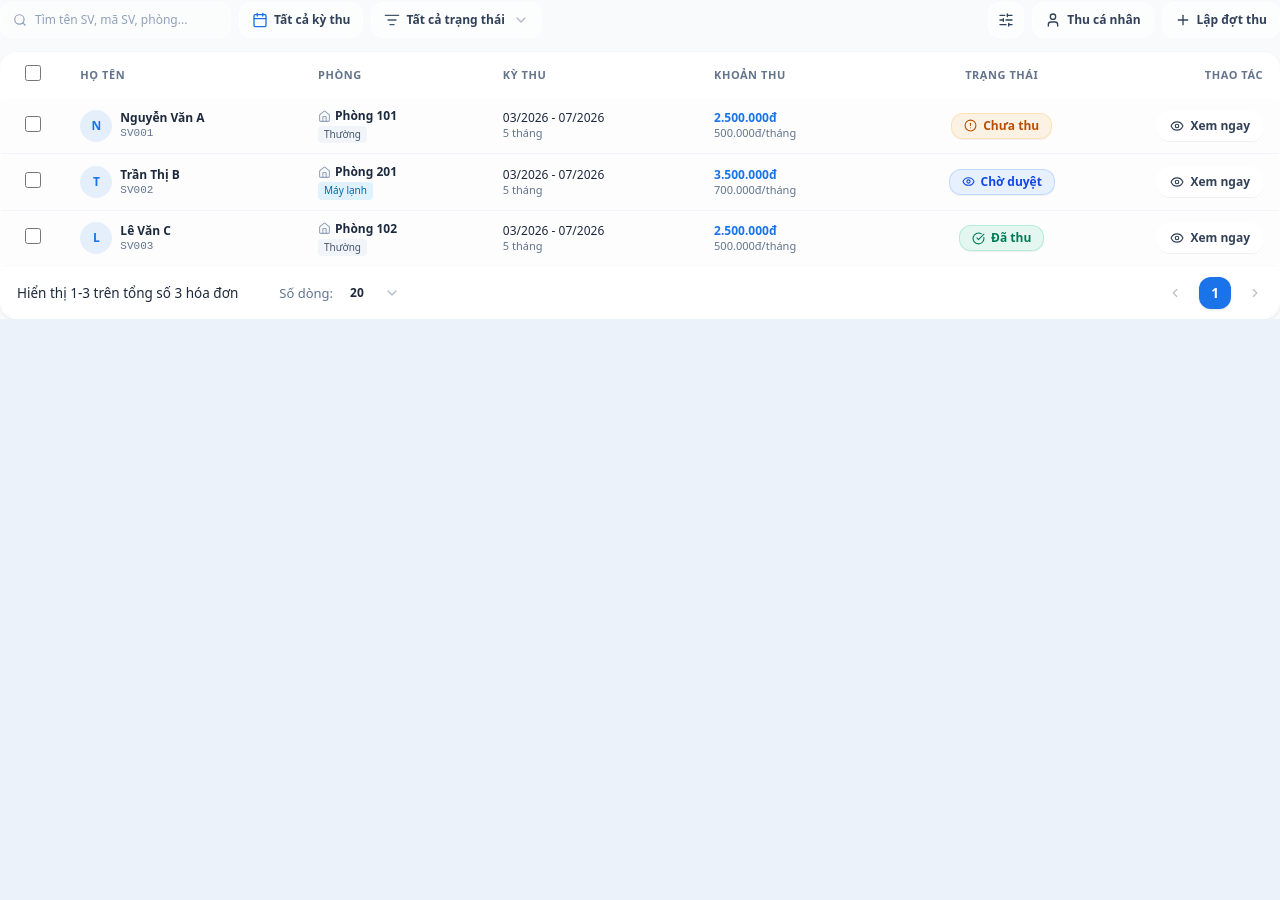
it: RoomFeeCollection Component › displays Vietnamese error and retry button when getProofBlob fails (AC-03)
Check: the button "Xem ngay" in the row of "Nguyễn Văn A" is shown, box [1157,111,1263,141]
Note: Click Xem ngay on second invoice (rfi-pending)
What coordinates should you click on to do the following:
click the button "Xem ngay" in the row of "Trần Thị B"
I would click on:
 (1210, 182)
Its box is [1157,167,1263,197].
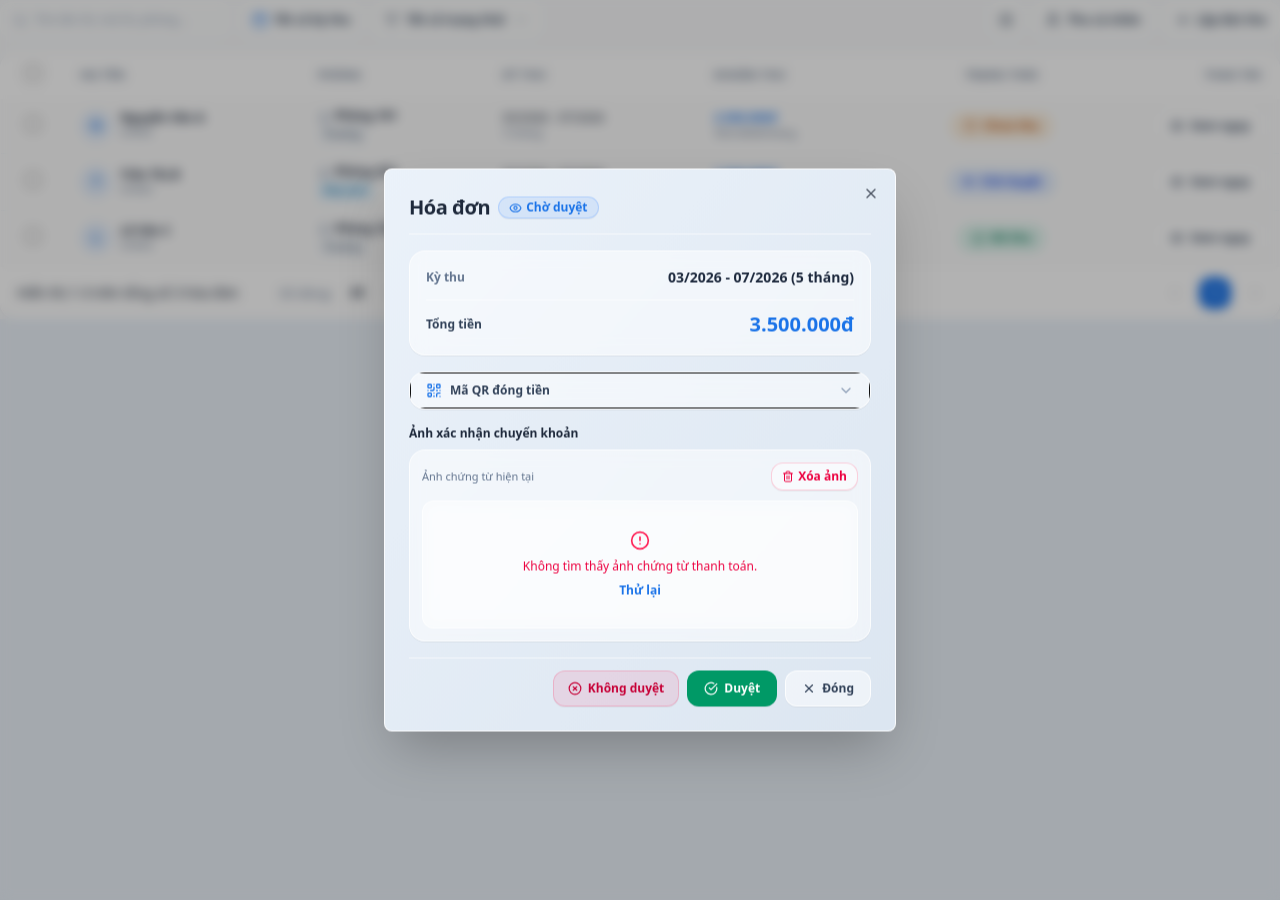
Check: the text "Không tìm thấy ảnh chứng từ thanh toán." is shown, box [523,558,757,574]
Check: the button "Thử lại" is shown, box [619,582,661,598]
